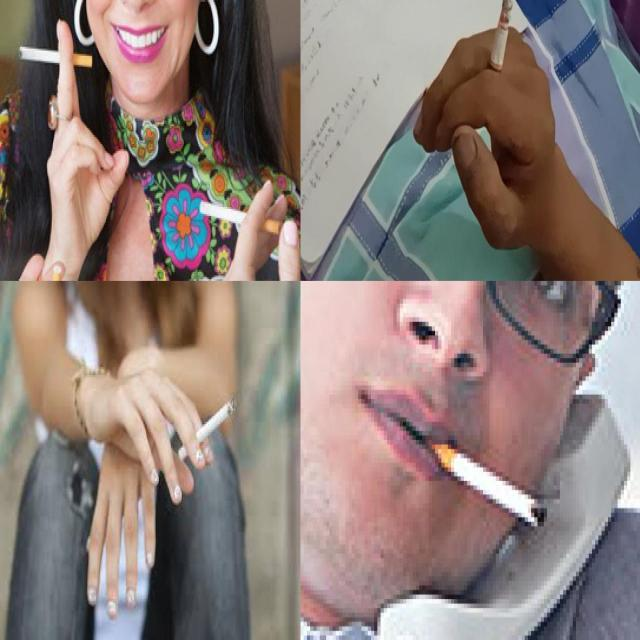smoking: (432, 431, 550, 532), (178, 399, 236, 462), (484, 0, 516, 94), (200, 200, 282, 236), (18, 44, 94, 69)
